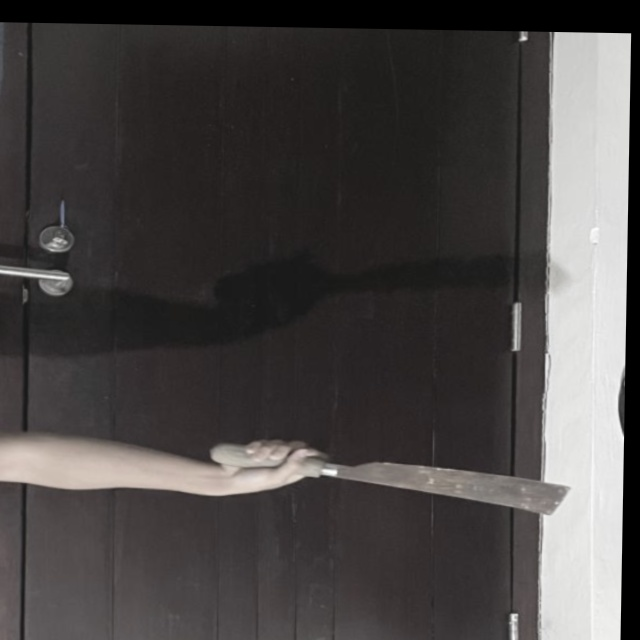Sharp-Object: (205, 439, 574, 518)
